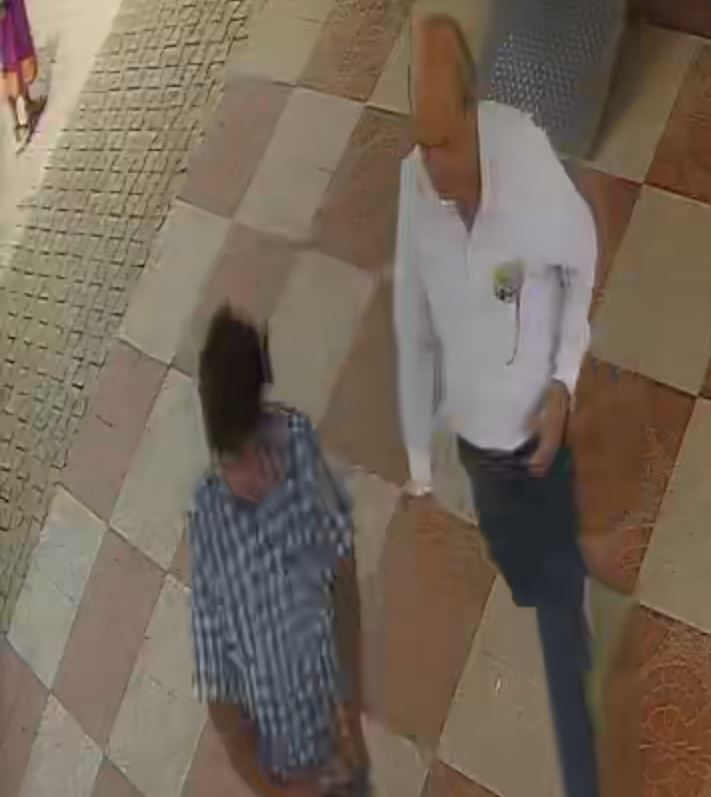intruder: (384, 21, 598, 797), (169, 315, 370, 797)
